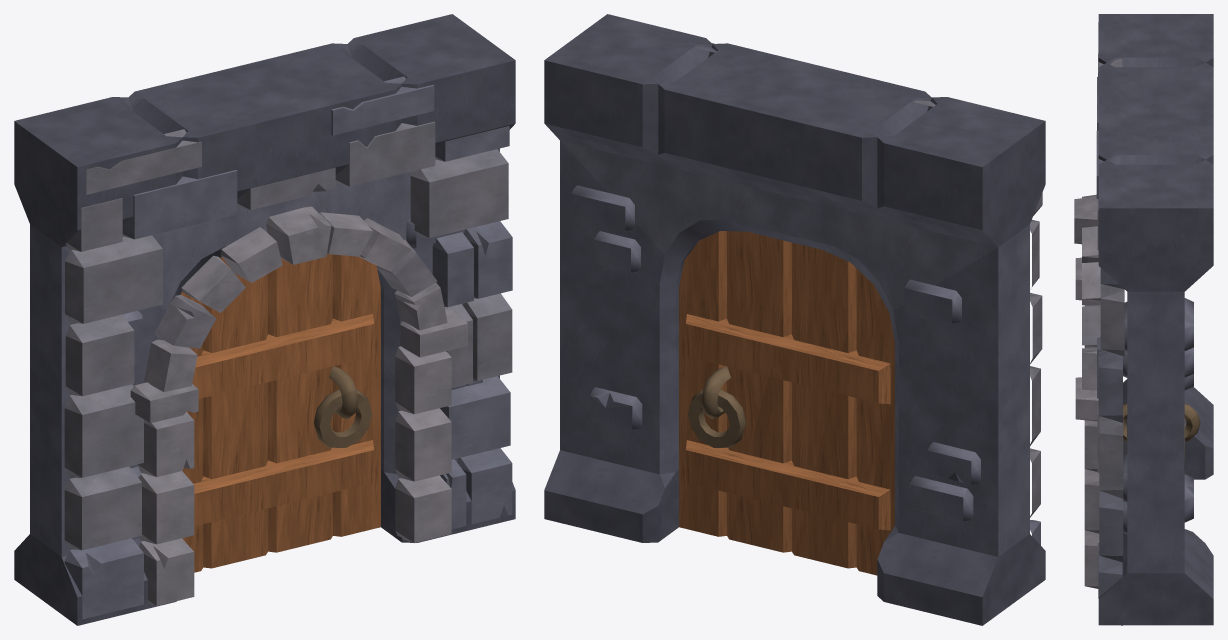
Rendered from wall_doorway.gltf.
3 views of the same model, side by side, from view 1: azimuth 30°, elevation 25°; view 2: azimuth 150°, elevation 25°; view 3: azimuth 270°, elevation 25° (orthographic). The views are drawn at different scales.
Visible parts, largest first — view 1: wall_doorway; view 2: wall_doorway; view 3: wall_doorway.
Boxes of the visible parts, <box> form: wall_doorway: <box>14,14,515,625</box>; wall_doorway: <box>544,14,1045,625</box>; wall_doorway: <box>1074,14,1213,625</box>.
Size of the model in its own units: 4 by 4.02 by 1.21.
9 materials, 9 textured.
